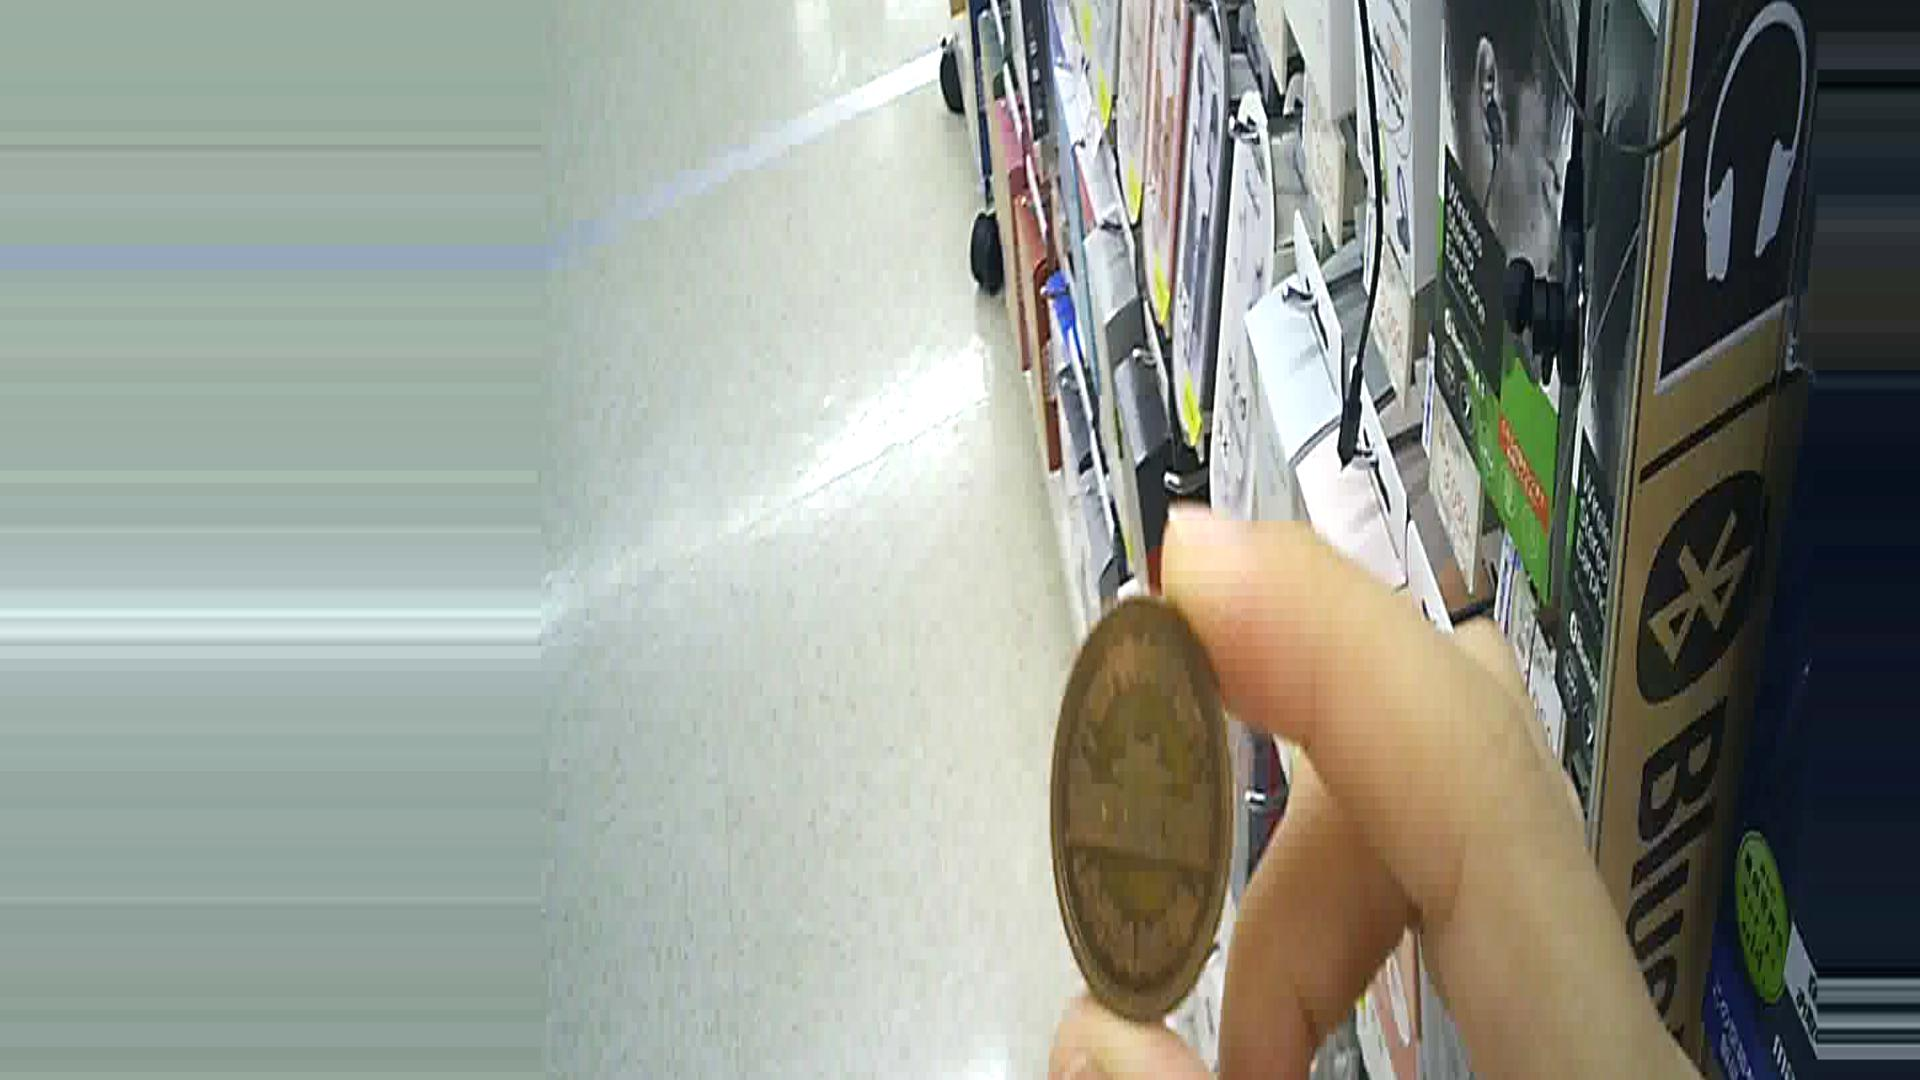10 Yen: (1035, 600, 1247, 1033)
